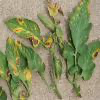Potato leaf early blight: (5, 17, 43, 51), (70, 0, 93, 49), (6, 36, 24, 82), (78, 40, 100, 70), (14, 87, 28, 99)
